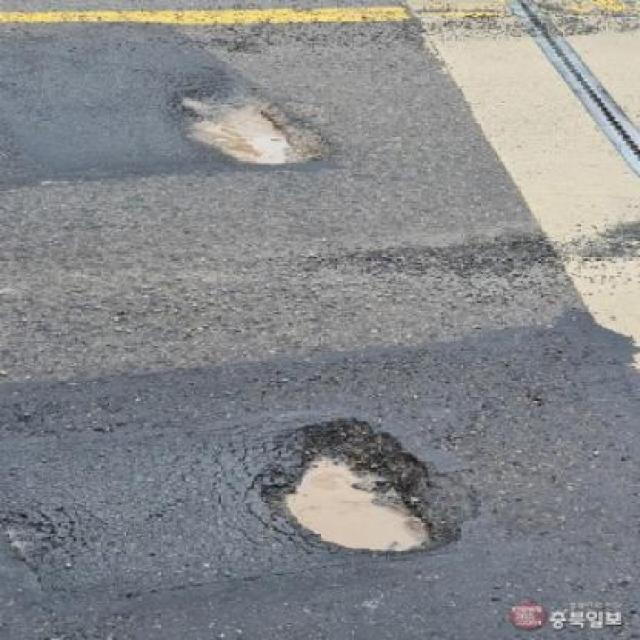Pothole: (263, 412, 455, 548), (155, 72, 333, 176)
